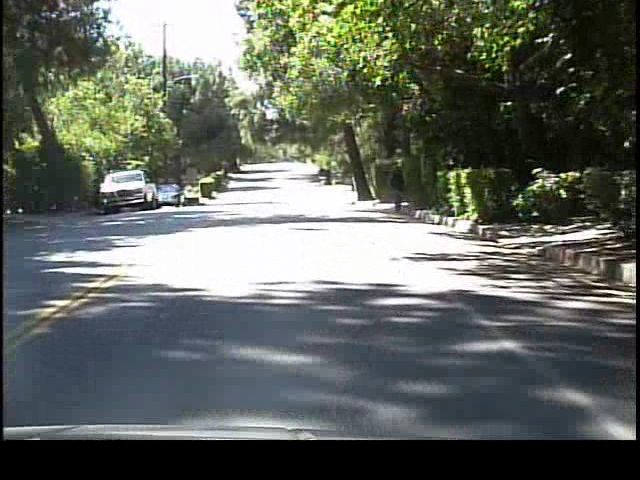person: (386, 156, 408, 215)
